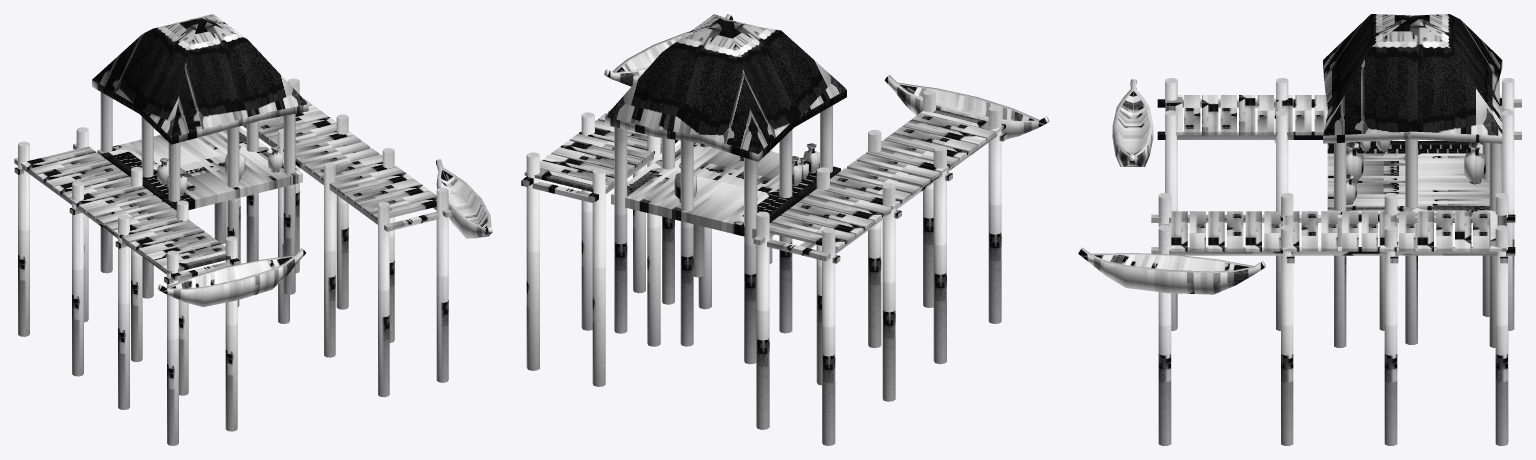
The model's file is dock_hopi.dae.
The picture shows the model from 3 angles, left to right: view 1: azimuth 30°, elevation 25°; view 2: azimuth 150°, elevation 25°; view 3: azimuth 270°, elevation 25°; orthographic projection. The views are drawn at different scales.
Parts seen in each view (by area): view 1: Puerto; view 2: Puerto; view 3: Puerto.
Boxes of the visible parts, x1=… form: Puerto: x1=14, y1=14, x2=492, y2=445; Puerto: x1=521, y1=14, x2=1049, y2=445; Puerto: x1=1078, y1=14, x2=1521, y2=445.
Size of the model in its own units: 26.76 by 26.53 by 23.39.
